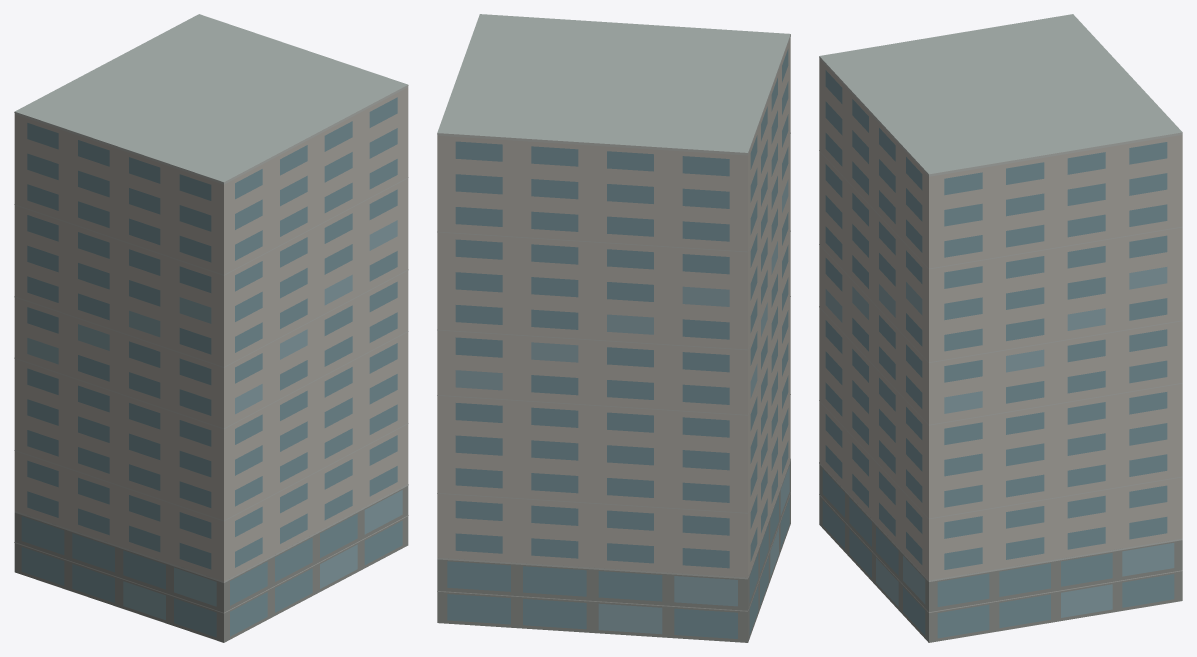
File: residential-bd1cf067-1d81-4548-a4bf-42ec74fce757.glb
3 views of the same model, side by side, from view 1: azimuth 30°, elevation 25°; view 2: azimuth 150°, elevation 25°; view 3: azimuth 270°, elevation 25° (orthographic). The views are drawn at different scales.
Visible parts, largest first — view 1: residential-bd1cf067-1d81-4548-a4bf-42ec74fce757.tmp; view 2: residential-bd1cf067-1d81-4548-a4bf-42ec74fce757.tmp; view 3: residential-bd1cf067-1d81-4548-a4bf-42ec74fce757.tmp.
Part boxes in pixels (<box>): residential-bd1cf067-1d81-4548-a4bf-42ec74fce757.tmp: <box>14,14,408,642</box>; residential-bd1cf067-1d81-4548-a4bf-42ec74fce757.tmp: <box>437,14,790,642</box>; residential-bd1cf067-1d81-4548-a4bf-42ec74fce757.tmp: <box>819,14,1182,642</box>.
Size of the model in its own units: 33.78 by 46 by 32.36.
